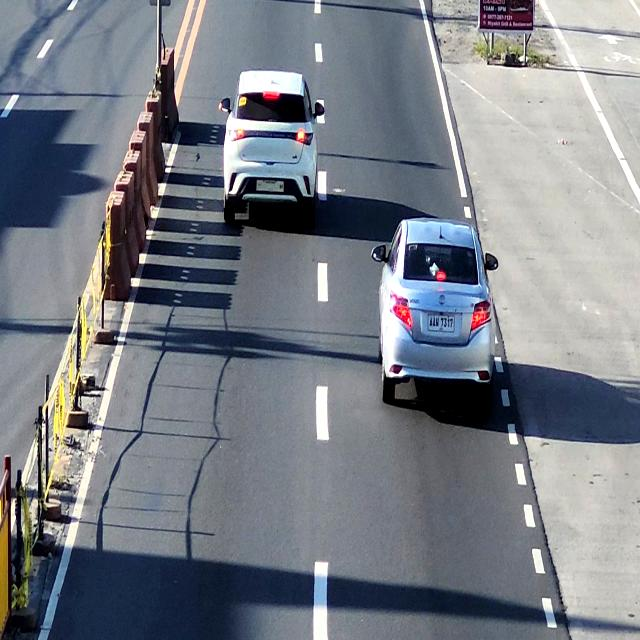Car: (380, 219, 496, 415), (222, 65, 314, 222)
License-Plate: (426, 314, 456, 332), (256, 178, 286, 194)
